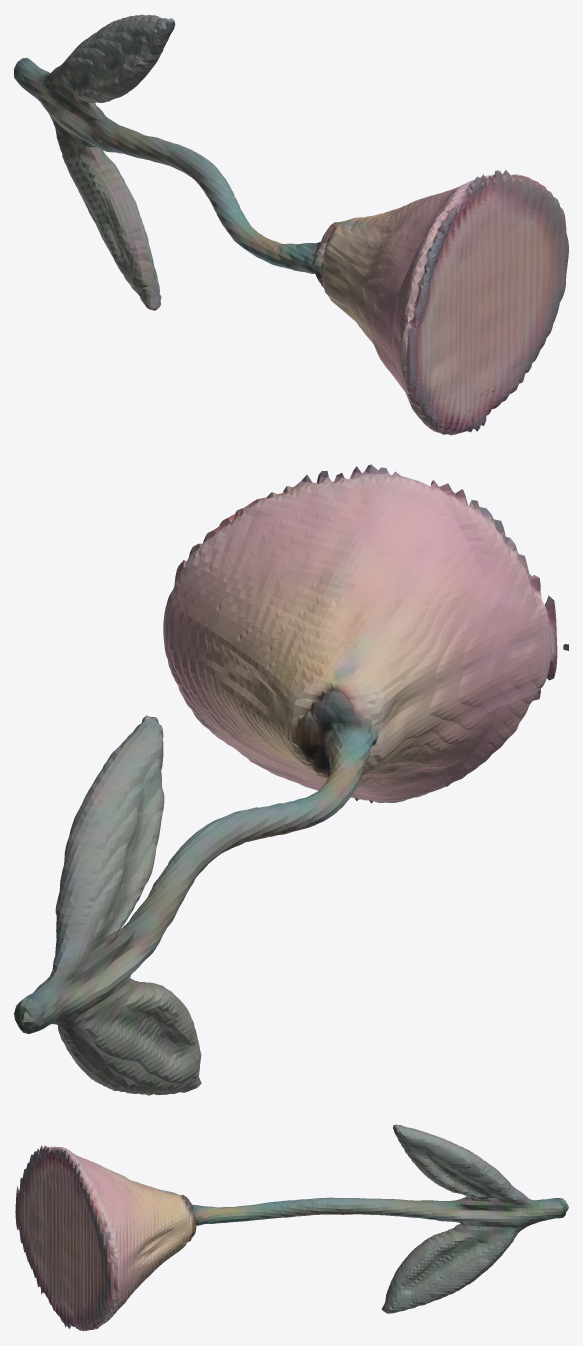
Rendered from triposr_alien_flower.glb.
The picture shows the model from 3 angles, top to bottom: view 1: azimuth 30°, elevation 25°; view 2: azimuth 150°, elevation 25°; view 3: azimuth 270°, elevation 25°; orthographic projection. The views are drawn at different scales.
Visible parts, largest first — view 1: geometry_0; view 2: geometry_0; view 3: geometry_0.
Part boxes in pixels (x1,y1,x2,y2): geometry_0: (14,14,568,435); geometry_0: (14,464,568,1095); geometry_0: (15,1124,568,1331).
Size of the model in its own units: 0.3787 by 0.4272 by 1.1.
